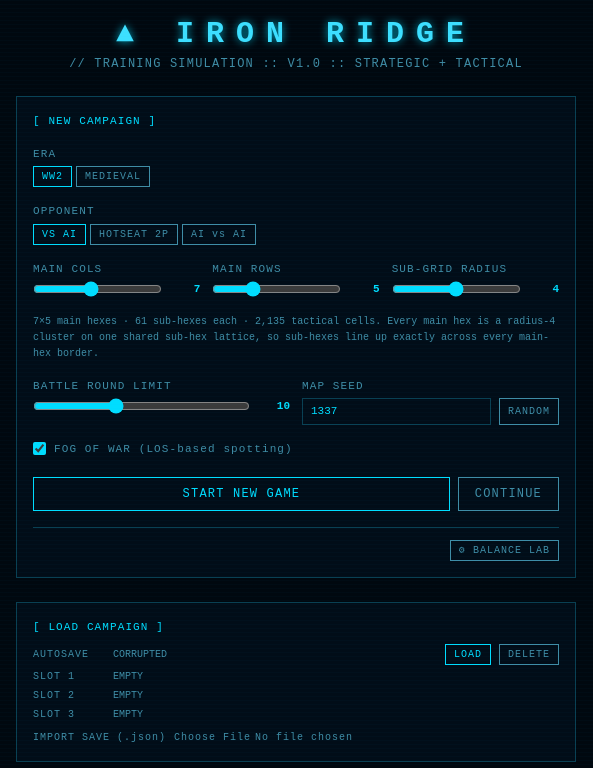
Test: corrupt and legacy saves › a truncated autosave: CONTINUE fails visibly, never crashes
What coordinates should you click on to do the following:
click the button "CONTINUE"
I would click on:
 (508, 494)
Its box is [458, 477, 559, 511].
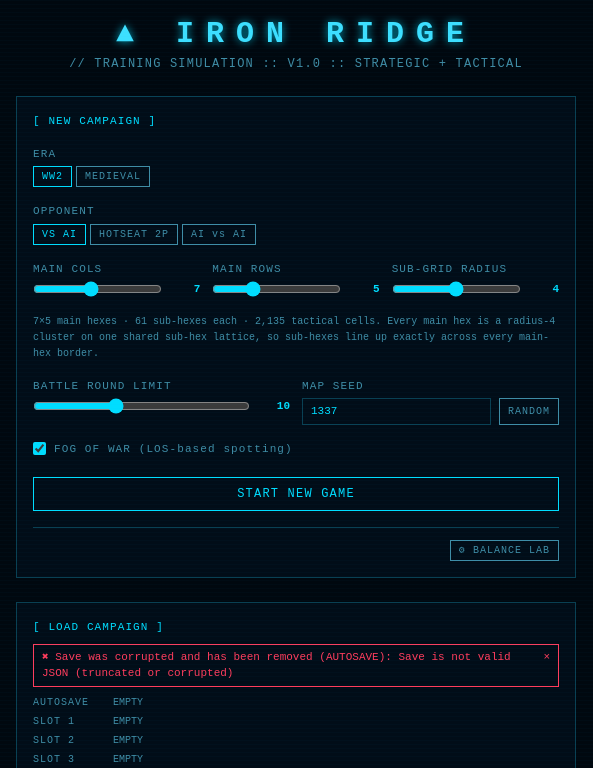
Expected: the button "CONTINUE" is gone
